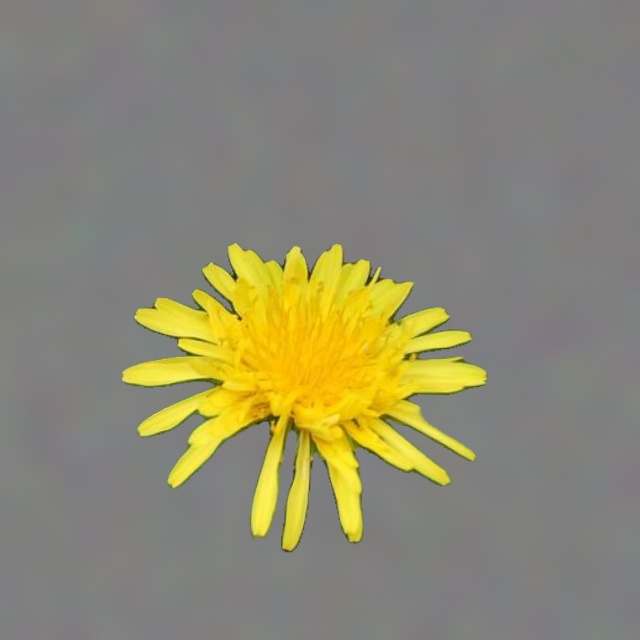dandelion: (122, 243, 486, 551)
